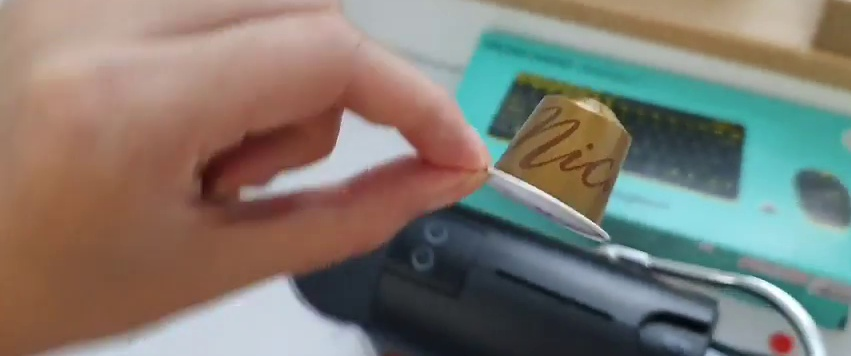capsule_9: (481, 87, 634, 251)
